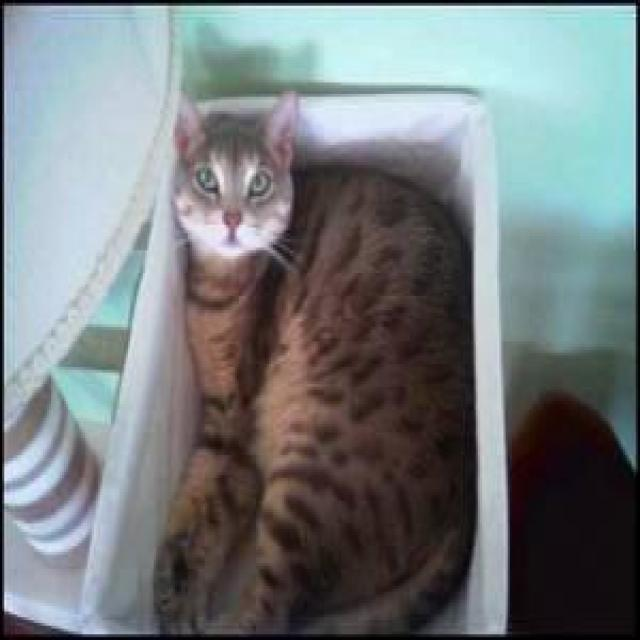cat: (151, 88, 476, 640)
